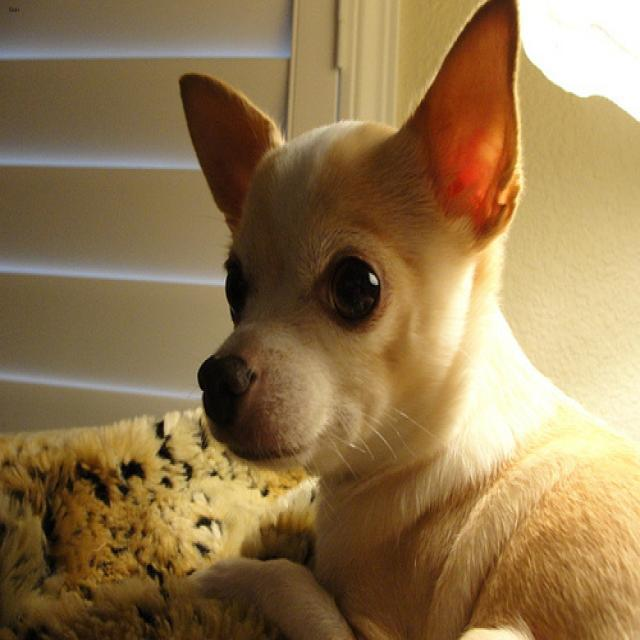dog-chihuahua: (170, 2, 637, 637)
